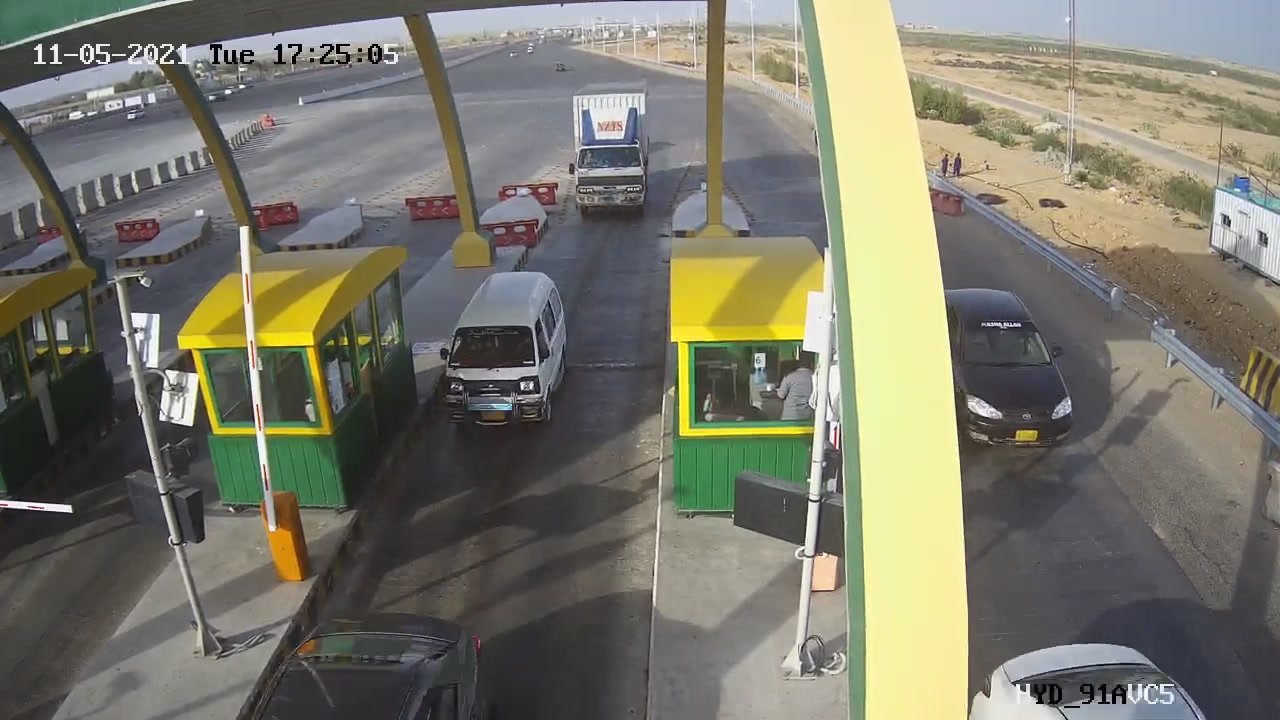F1: (414, 256, 592, 448)
